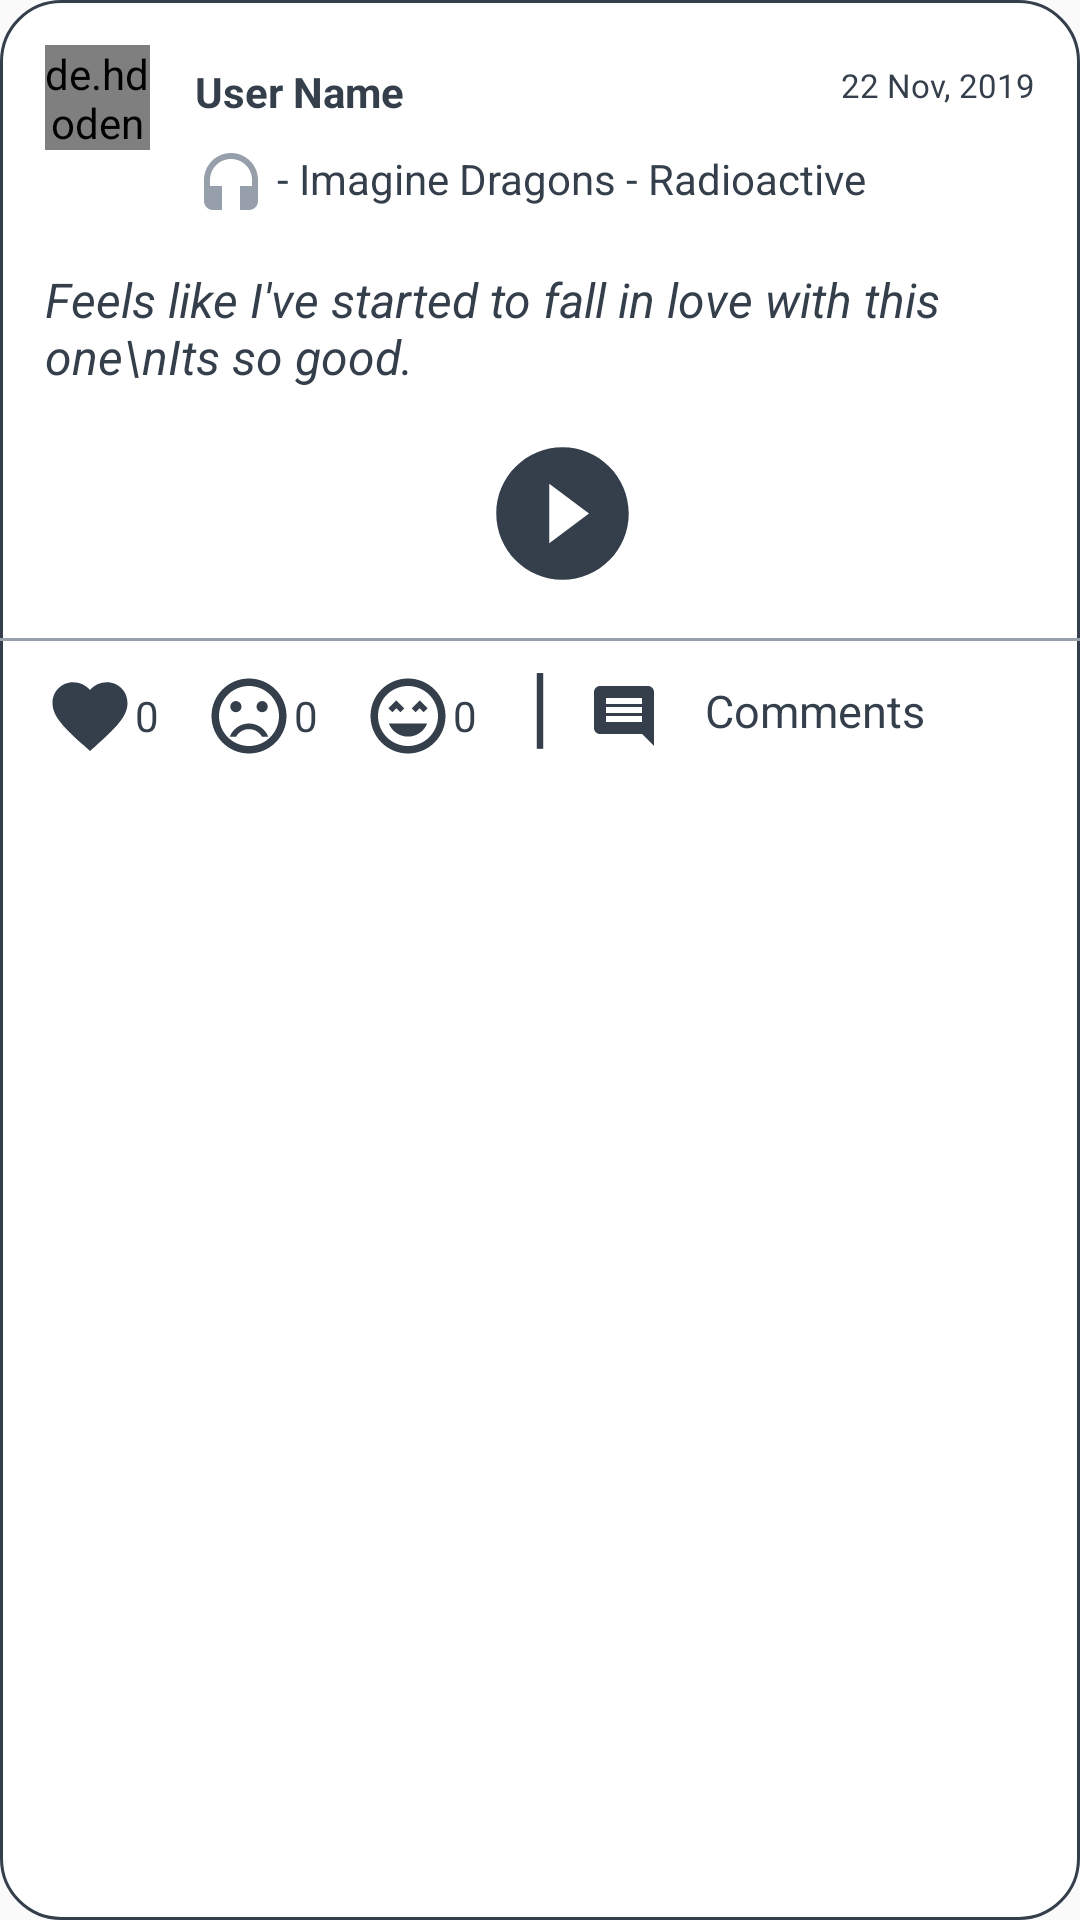

Locate icon controls on the screen. Image size 1080 × 1920, boxes as [x1,y1,x2,y2].
favorite: [52,682,128,751]
headset: [204,153,258,210]
play circle: [496,447,629,580]
sentiment dissatisfied: [211,678,287,754]
sentiment very satisfied: [370,678,446,754]
